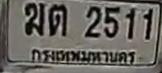1: (143, 8, 152, 38), (126, 7, 134, 38)
2: (84, 6, 100, 36)
5: (103, 6, 119, 37)
A06: (24, 2, 44, 34)
A21: (48, 3, 66, 35)
BKK: (27, 45, 137, 67)
